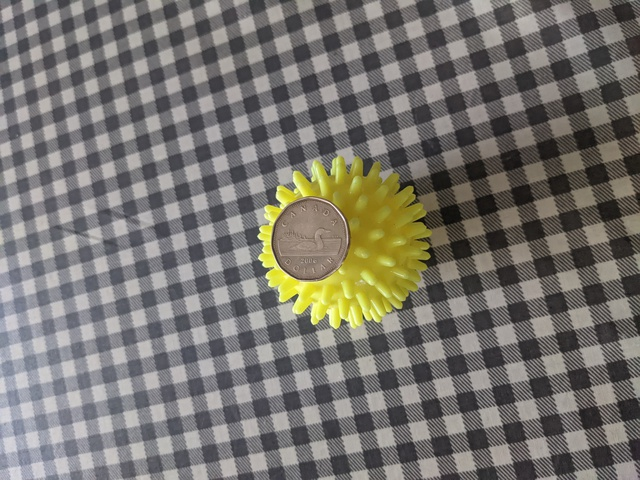loonie: (267, 201, 343, 273)
